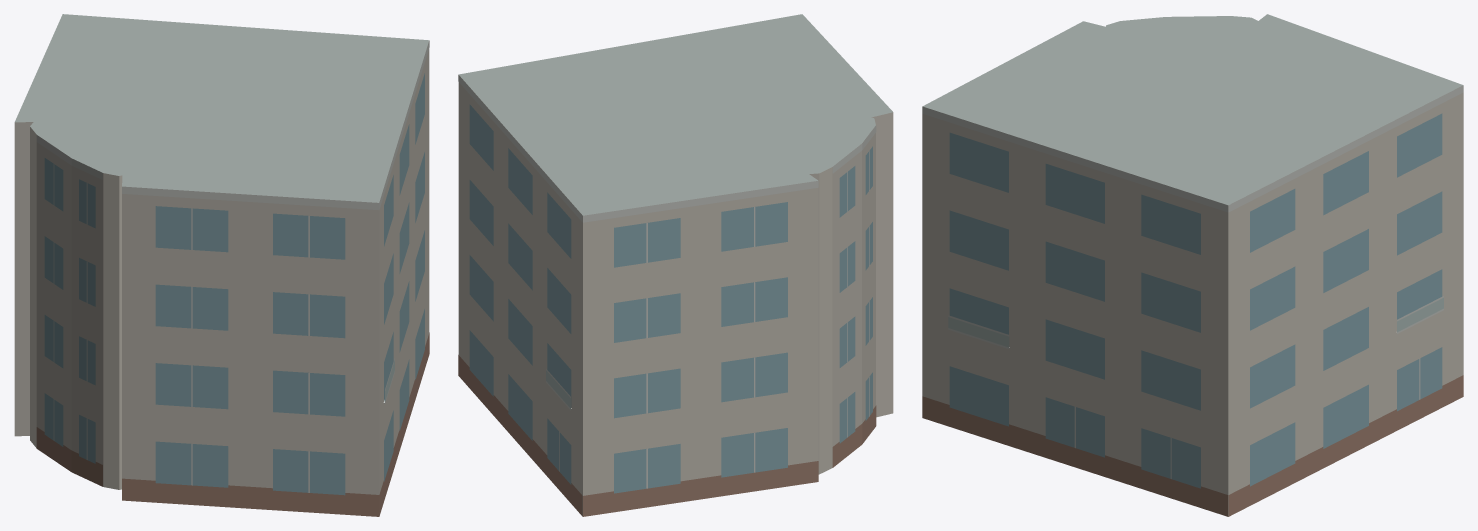
File: survey-upis-32582910.glb
The picture shows the model from 3 angles, left to right: view 1: azimuth 30°, elevation 25°; view 2: azimuth 150°, elevation 25°; view 3: azimuth 270°, elevation 25°; orthographic projection. The views are drawn at different scales.
Visible parts, largest first — view 1: survey-upis-32582910.tmp; view 2: survey-upis-32582910.tmp; view 3: survey-upis-32582910.tmp.
Part boxes in pixels (x1=…): survey-upis-32582910.tmp: x1=14, y1=14, x2=429, y2=516; survey-upis-32582910.tmp: x1=458, y1=14, x2=893, y2=516; survey-upis-32582910.tmp: x1=922, y1=14, x2=1463, y2=516.
Bounding box in the file's own units: 13.84 × 10.5 × 16.54.
